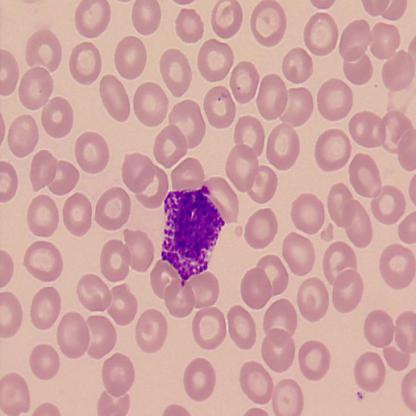Basophil: (158, 185, 226, 288)
